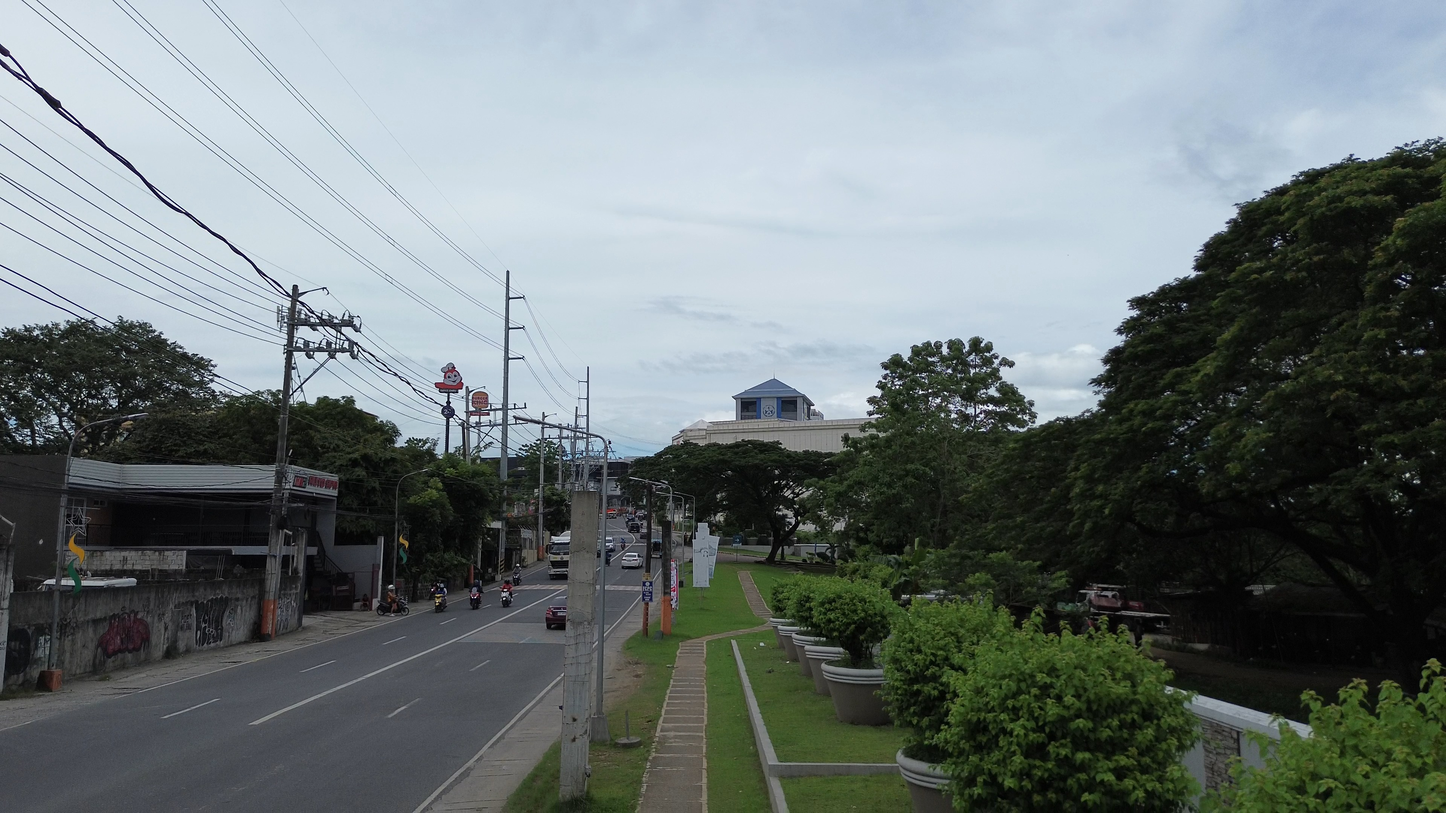car: (545, 604, 567, 629)
motorcycle: (377, 598, 407, 616), (433, 593, 447, 612), (469, 588, 481, 610), (501, 591, 512, 607)
vehicle: (548, 534, 569, 579), (376, 597, 409, 615), (620, 552, 643, 568), (469, 587, 481, 609), (650, 539, 663, 559), (500, 589, 513, 607), (627, 521, 641, 534), (605, 537, 616, 553)
